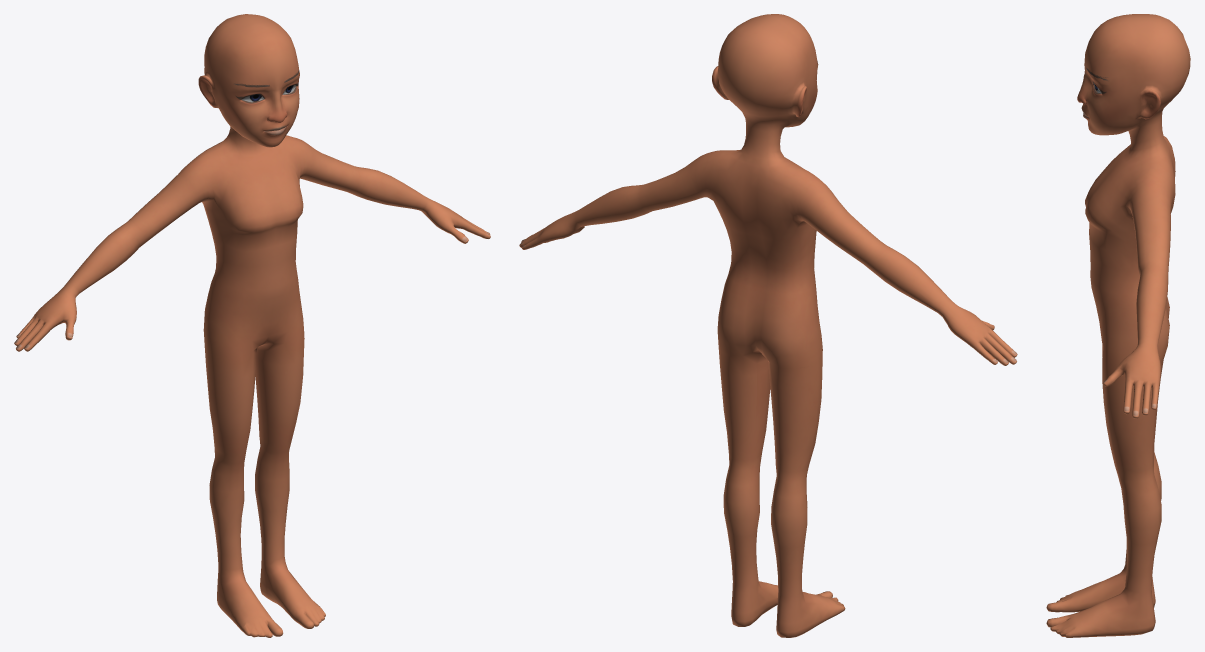
File: frame_0023.glb
The picture shows the model from 3 angles, left to right: view 1: azimuth 30°, elevation 25°; view 2: azimuth 150°, elevation 25°; view 3: azimuth 270°, elevation 25°; orthographic projection. The views are drawn at different scales.
Visible parts, largest first — view 1: frame_0023_head_geo; view 2: frame_0023_head_geo; view 3: frame_0023_head_geo.
Boxes of the visible parts, <box> form: frame_0023_head_geo: <box>14,14,490,637</box>; frame_0023_head_geo: <box>519,14,1017,637</box>; frame_0023_head_geo: <box>1046,14,1190,637</box>.
Bounding box in the file's own units: 1.28 × 1.5 × 0.3253.
Materials: 3 (3 with a texture image).
